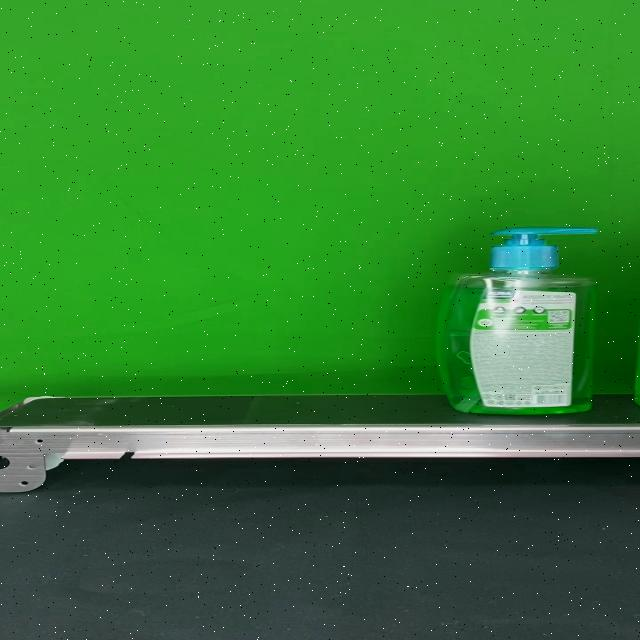Bottle: (435, 226, 598, 414)
Cap: (489, 226, 597, 268)
